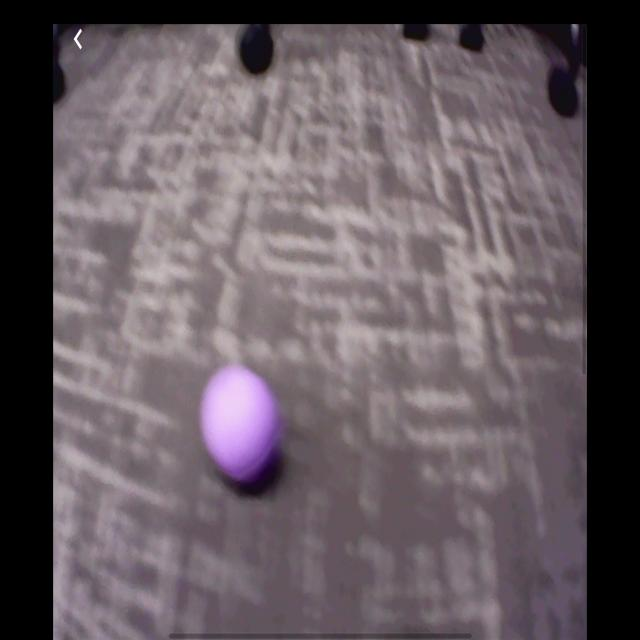ball: (198, 362, 283, 490)
